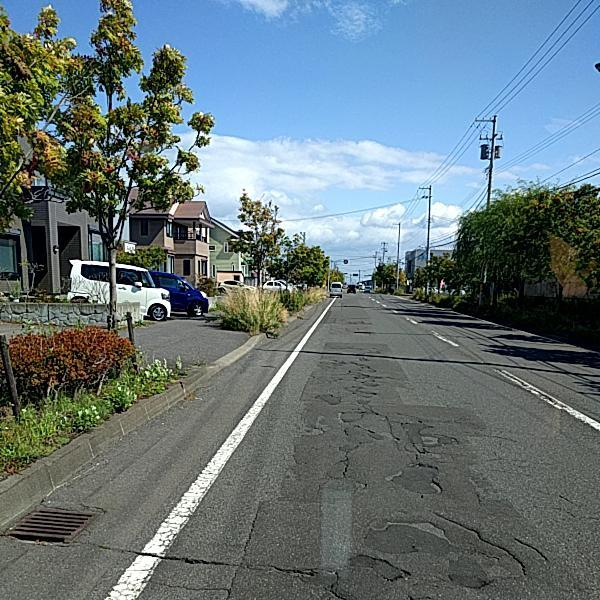D10: (86, 536, 239, 570), (135, 577, 237, 598)
D40: (235, 390, 547, 599)
